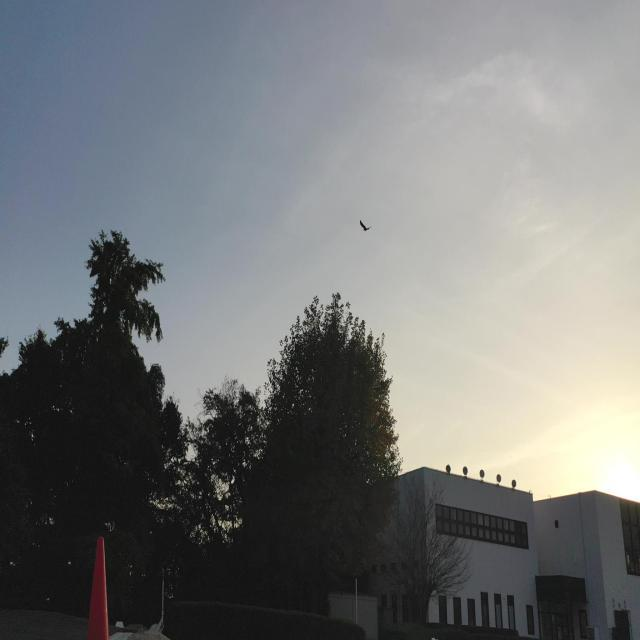Birds: (352, 207, 377, 246)
